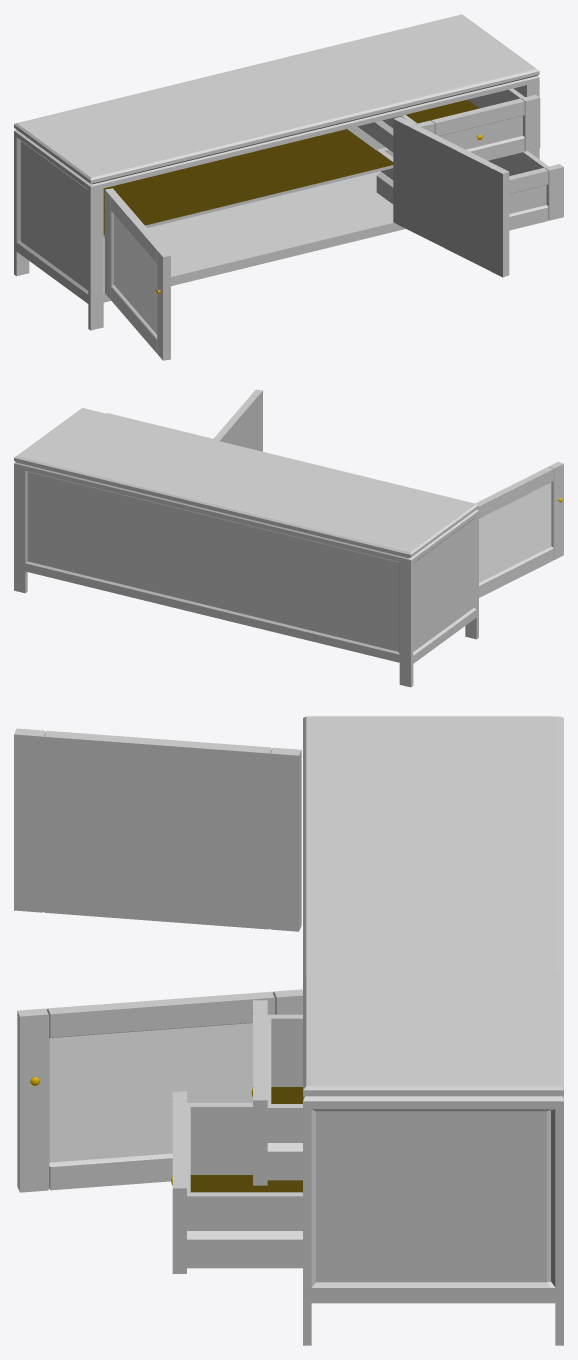
File: closeEverything.gltf
The picture shows the model from 3 angles, top to bottom: view 1: azimuth 30°, elevation 25°; view 2: azimuth 150°, elevation 25°; view 3: azimuth 270°, elevation 25°; orthographic projection. The views are drawn at different scales.
Parts seen in each view (by area): view 1: rack, doorRight, shelf, doorLeft, drawerUp, drawerDown; view 2: rack, doorLeft, doorRight; view 3: rack, doorLeft, doorRight, drawerDown, drawerUp.
Part boxes in pixels (bbox=[...]): rack: bbox=[14, 14, 539, 330]; doorRight: bbox=[393, 116, 509, 277]; shelf: bbox=[103, 129, 393, 238]; doorLeft: bbox=[104, 188, 170, 360]; drawerUp: bbox=[357, 88, 540, 160]; drawerDown: bbox=[376, 147, 563, 230]; rack: bbox=[14, 408, 478, 687]; doorLeft: bbox=[475, 461, 563, 597]; doorRight: bbox=[213, 389, 262, 451]; rack: bbox=[303, 716, 563, 1345]; doorLeft: bbox=[14, 728, 301, 931]; doorRight: bbox=[17, 989, 302, 1192]; drawerDown: bbox=[171, 1091, 302, 1273]; drawerUp: bbox=[251, 1000, 302, 1185].
Bounding box in the file's own units: 15.67 × 4.91 × 9.49.
